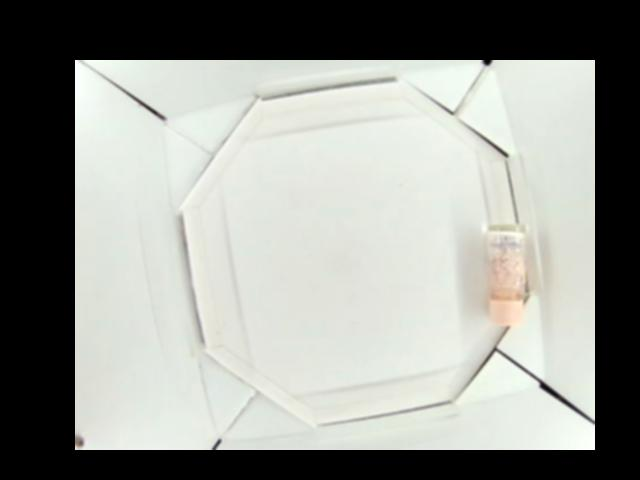Bottle: (486, 222, 528, 327)
